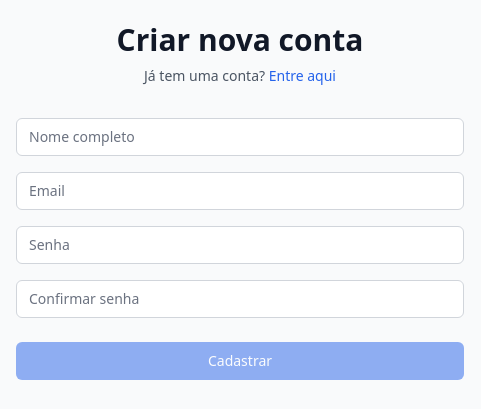
Test: RegisterForm Component › Form Validation › should show password mismatch error
In the password field labelled "Senha": (240, 245) x1=16 y1=226 x2=464 y2=264, type "password123"
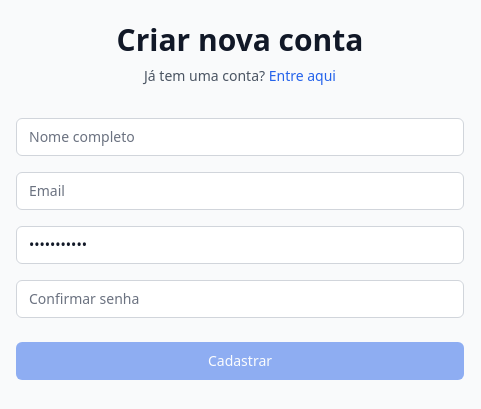
In the password field labelled "Confirmar senha": (240, 299) x1=16 y1=280 x2=464 y2=318, type "different123"
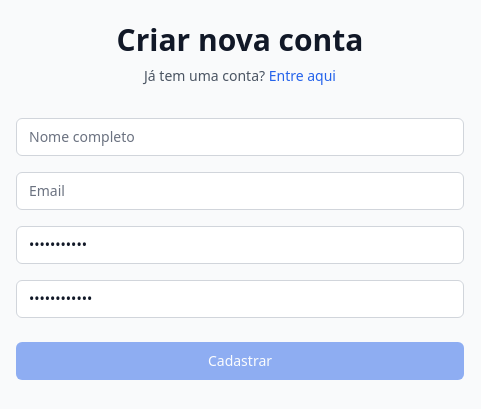
Leave the password field named "Confirmar senha", box x1=16 y1=280 x2=464 y2=318
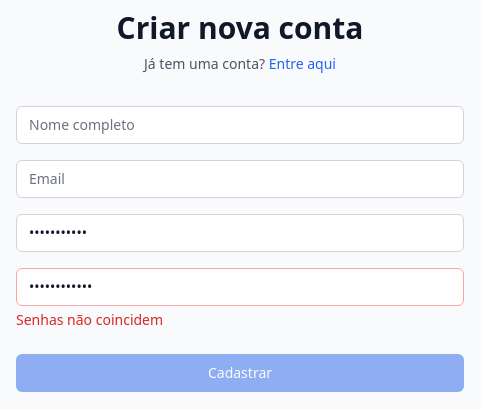
Expected: the text "Senhas não coincidem" is shown, x1=16 y1=310 x2=163 y2=329
